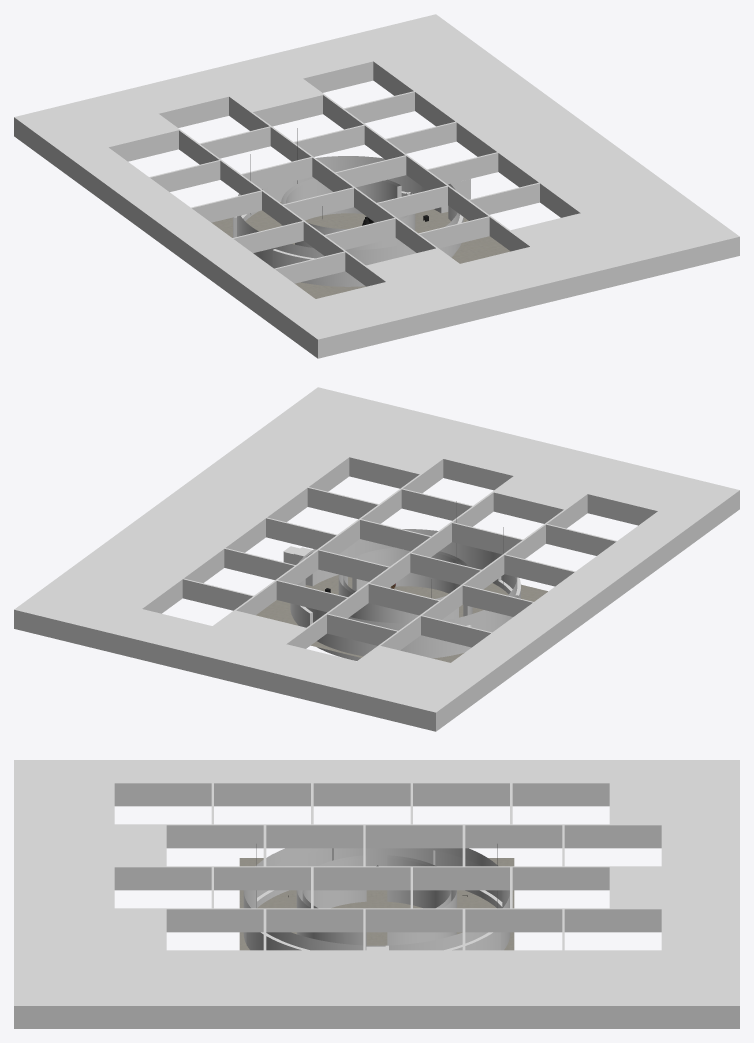
File: room-optimised.glb
3 renders of one model, top to bottom at view 1: azimuth 30°, elevation 25°; view 2: azimuth 150°, elevation 25°; view 3: azimuth 270°, elevation 25°, orthographic. The views are drawn at different scales.
Visible parts, largest first — view 1: circles, floor; view 2: circles, floor; view 3: circles, floor.
Boxes of the visible parts, <box> form: circles: <box>14,14,739,358</box>; floor: <box>211,202,510,298</box>; circles: <box>14,387,739,731</box>; floor: <box>256,575,547,662</box>; circles: <box>14,760,739,1028</box>; floor: <box>239,858,514,950</box>.
Size of what is drawn, in the model's own units: 50.8 by 9.33 by 63.37.
Materials: 15 (15 with a texture image).
